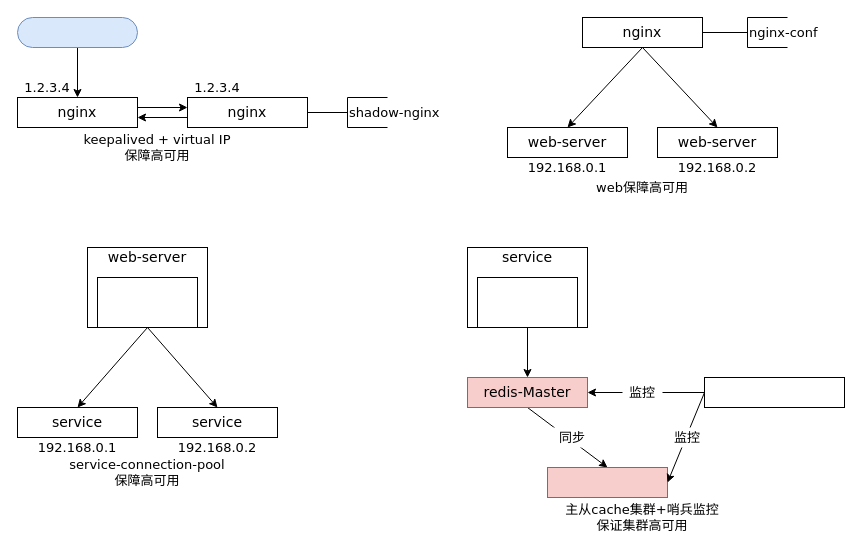
Some shapes in this 862 by 550 pixel diagram are drawn without their labels. The shapes that lost their labels are listed below. From the top down, each one's centre as x and y in pixels, then its label:
the point at 77,32: client
the point at 147,302: connection pool
the point at 527,302: redis client
the point at 774,392: redis-sentinel集群
the point at 607,482: redis-Slave
